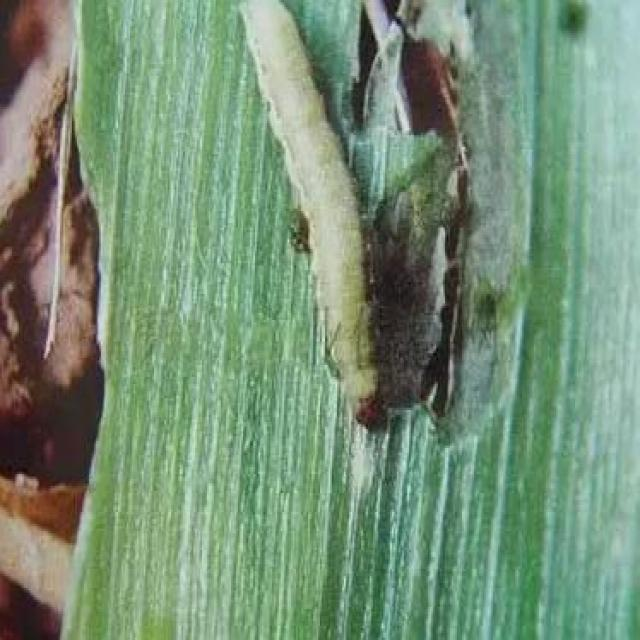BeetArmyWorm-Larva-: (219, 1, 394, 440)
